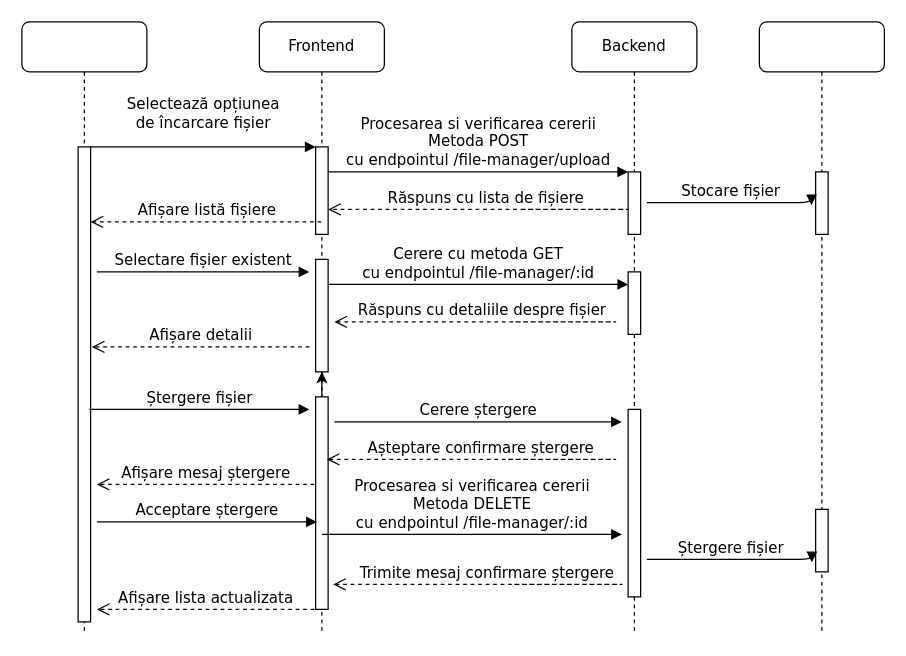
This 906x656 diagram has some shape labels left out. The box of each missing label's shape, as (x1, y1, x2, y2) in pixels:
Stocare: (758, 21, 884, 634)
Utilizator: (21, 21, 147, 634)
